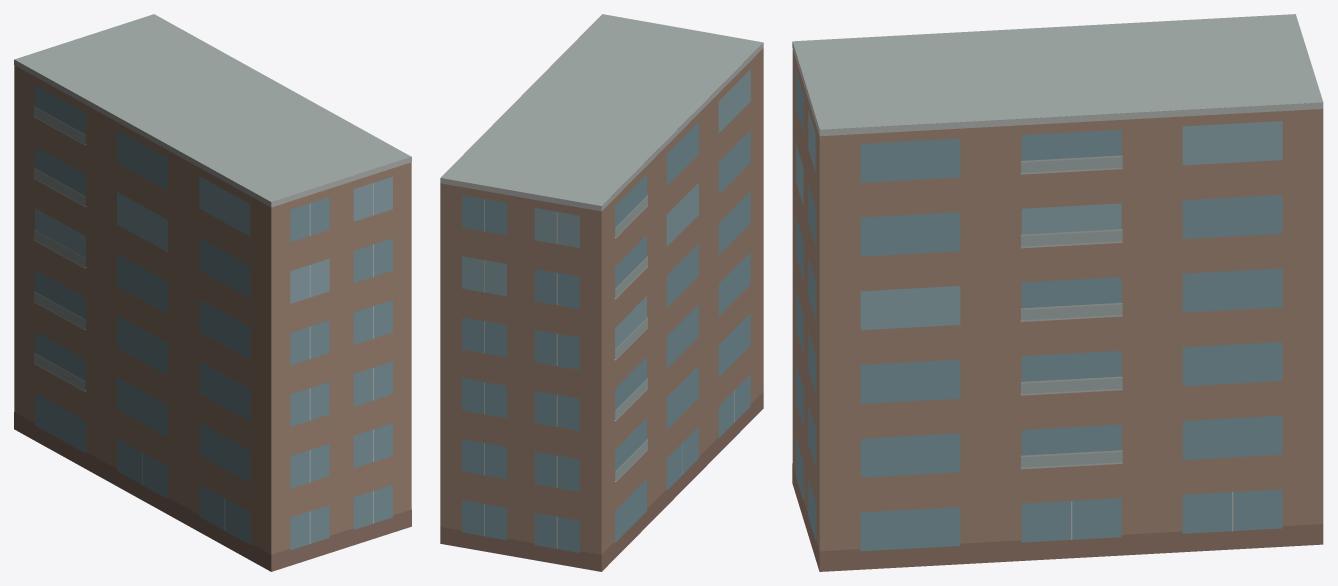
File: survey-upis-32747224.glb
3 views of the same model, side by side, from view 1: azimuth 30°, elevation 25°; view 2: azimuth 150°, elevation 25°; view 3: azimuth 270°, elevation 25° (orthographic). The views are drawn at different scales.
Parts seen in each view (by area): view 1: survey-upis-32747224.tmp; view 2: survey-upis-32747224.tmp; view 3: survey-upis-32747224.tmp.
Boxes of the visible parts, x1,y1,x2,y2 form: survey-upis-32747224.tmp: (14,14,411,571); survey-upis-32747224.tmp: (440,14,763,571); survey-upis-32747224.tmp: (792,14,1323,571).
Size of the model in its own units: 9.33 by 16.6 by 18.08.
